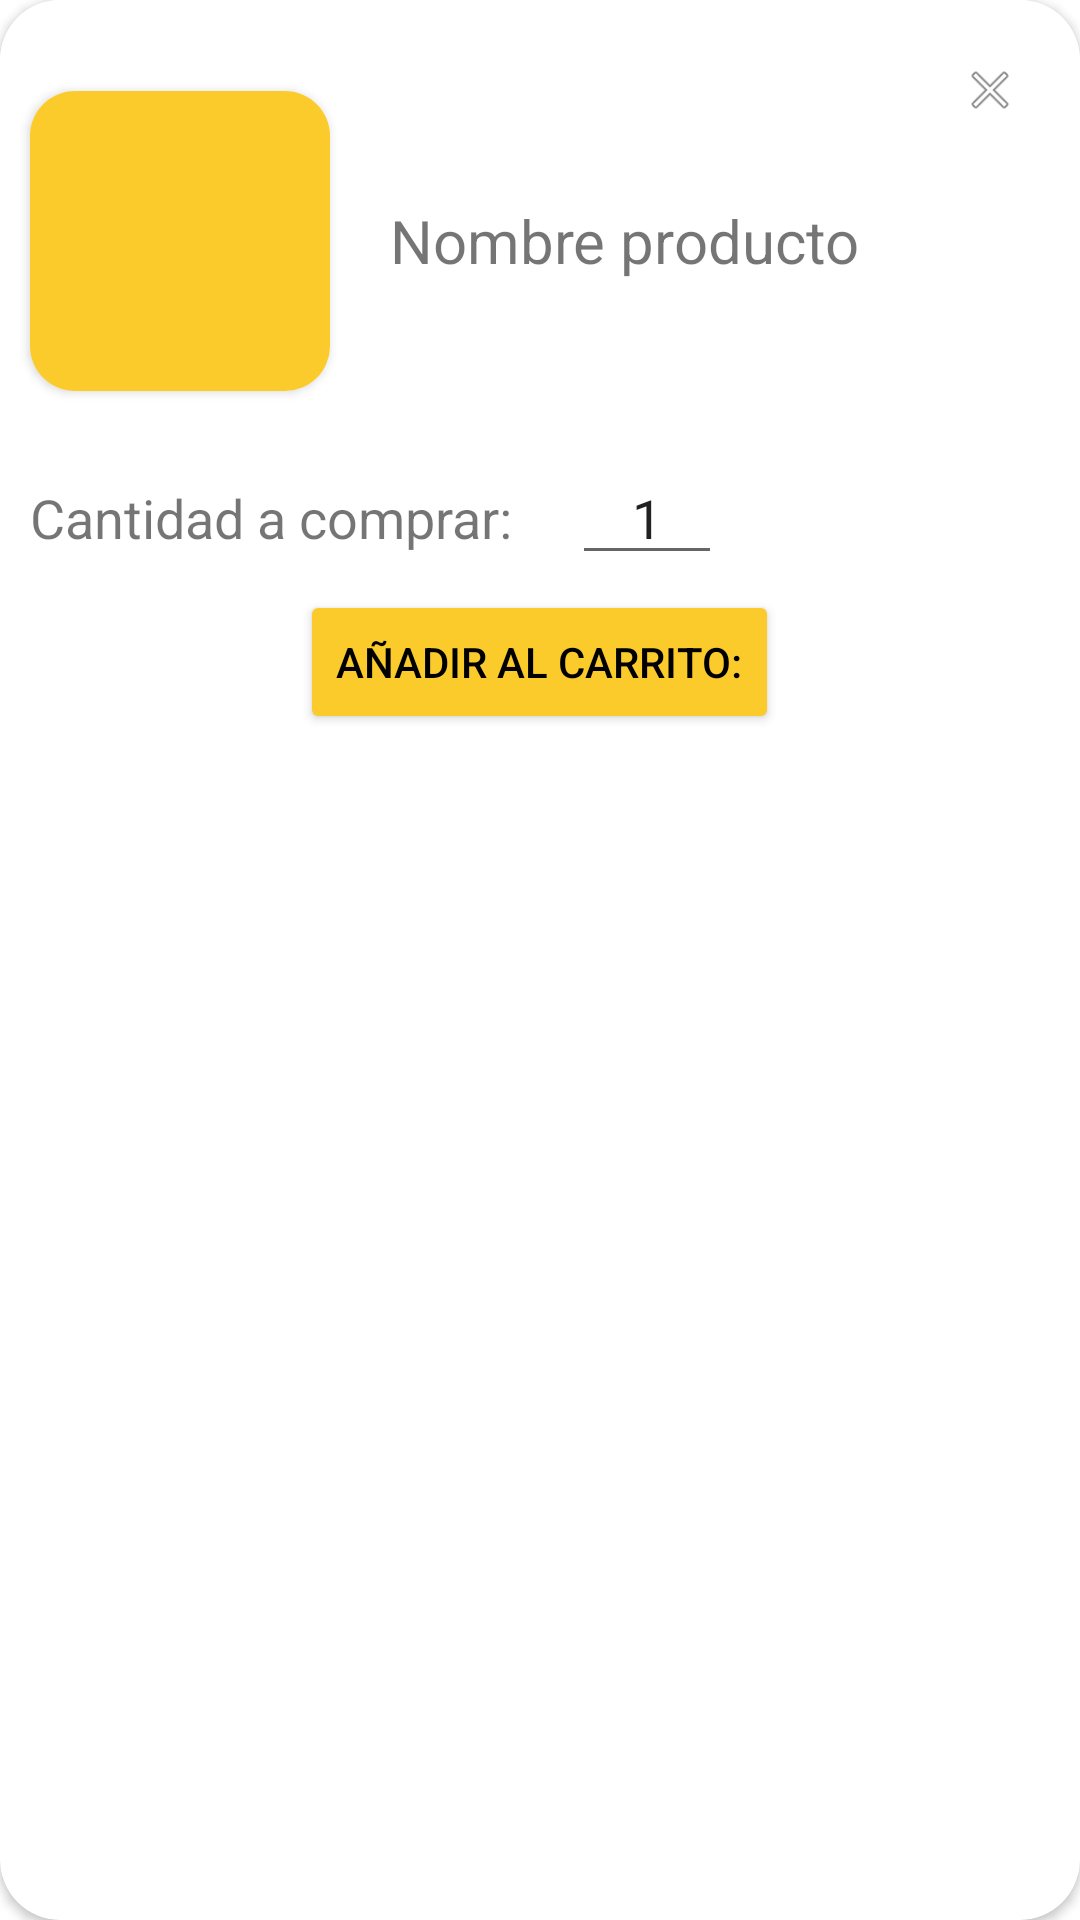

Locate icon controls on the screen. Image size 1080*1920, boxes as rect(x1, y1, x2, y2).
close clear cancel: rect(971, 71, 1009, 109)
